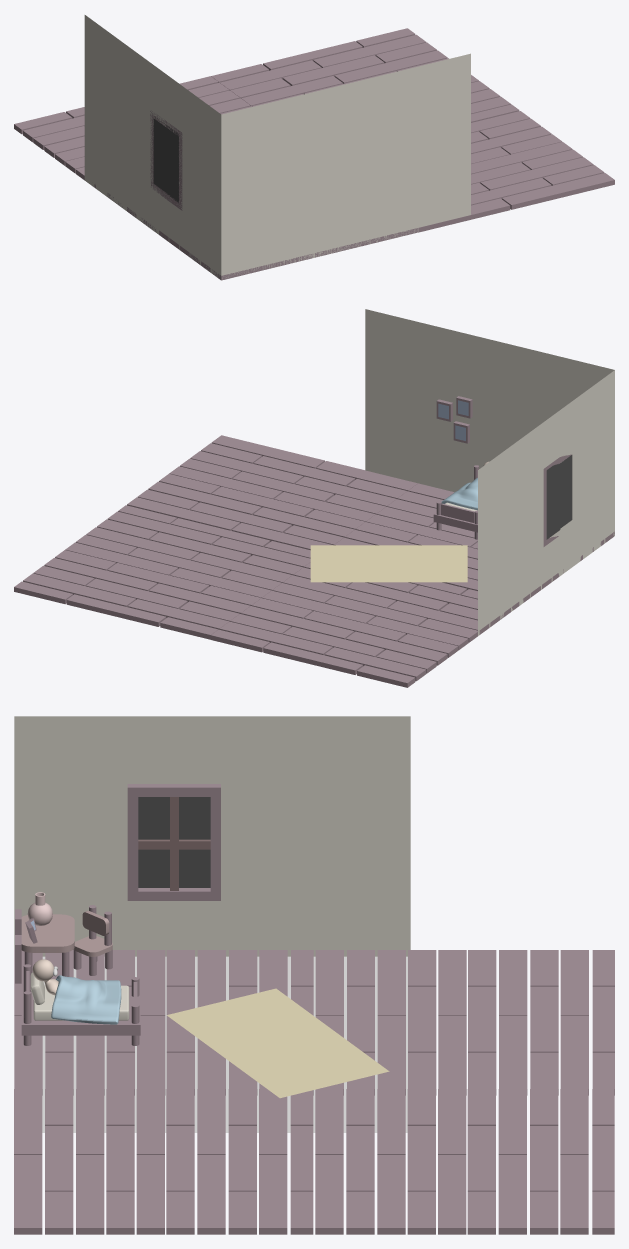
Rendered from LayingInBed.fbx.
3 views of the same model, one above another, from view 1: azimuth 30°, elevation 25°; view 2: azimuth 150°, elevation 25°; view 3: azimuth 270°, elevation 25° (orthographic). The views are drawn at different scales.
Parts seen in each view (by area): view 1: pCube331; view 2: pCube331; view 3: pCube331.
Part boxes in pixels (x1,y1,x2,y2): pCube331: (14, 15, 614, 280); pCube331: (14, 309, 614, 687); pCube331: (14, 716, 614, 1234).
Bounding box in the file's own units: 3869 × 1560 × 3534.
